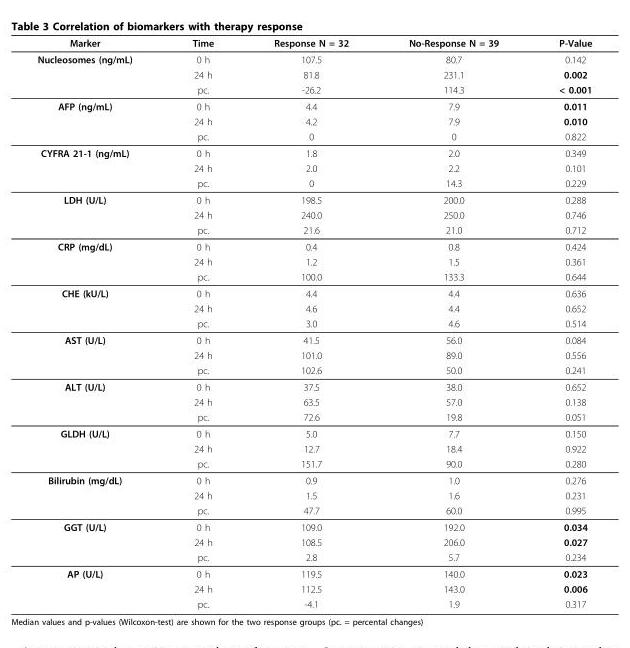table: (36, 36, 591, 609)
table column: (378, 36, 528, 609), (243, 36, 378, 609), (36, 36, 161, 609), (161, 36, 243, 609), (528, 36, 591, 609)
table column header: (36, 36, 591, 50)
table row: (36, 50, 591, 66), (36, 81, 591, 97), (36, 97, 591, 113), (36, 128, 591, 144), (36, 144, 591, 160), (36, 175, 591, 191), (36, 191, 591, 207), (36, 237, 591, 253), (36, 268, 591, 284), (36, 284, 591, 300), (36, 315, 591, 331), (36, 331, 591, 347), (36, 362, 591, 378), (36, 378, 591, 394), (36, 424, 591, 440), (36, 455, 591, 471), (36, 471, 591, 487), (36, 502, 591, 518), (36, 518, 591, 534), (36, 549, 591, 565), (36, 565, 591, 581), (36, 66, 591, 81), (36, 113, 591, 128), (36, 160, 591, 175), (36, 207, 591, 222), (36, 222, 591, 237), (36, 253, 591, 268), (36, 300, 591, 315), (36, 347, 591, 362), (36, 394, 591, 409), (36, 409, 591, 424), (36, 440, 591, 455), (36, 487, 591, 502), (36, 534, 591, 549), (36, 581, 591, 596), (36, 36, 591, 50), (36, 596, 591, 609)
table spanning cell: (36, 50, 161, 97), (36, 97, 161, 144), (36, 144, 161, 191), (36, 237, 161, 284), (36, 284, 161, 331), (36, 331, 161, 378), (36, 424, 161, 471), (36, 471, 161, 518), (36, 518, 161, 565), (36, 191, 161, 237), (36, 378, 161, 424), (36, 565, 161, 609)
